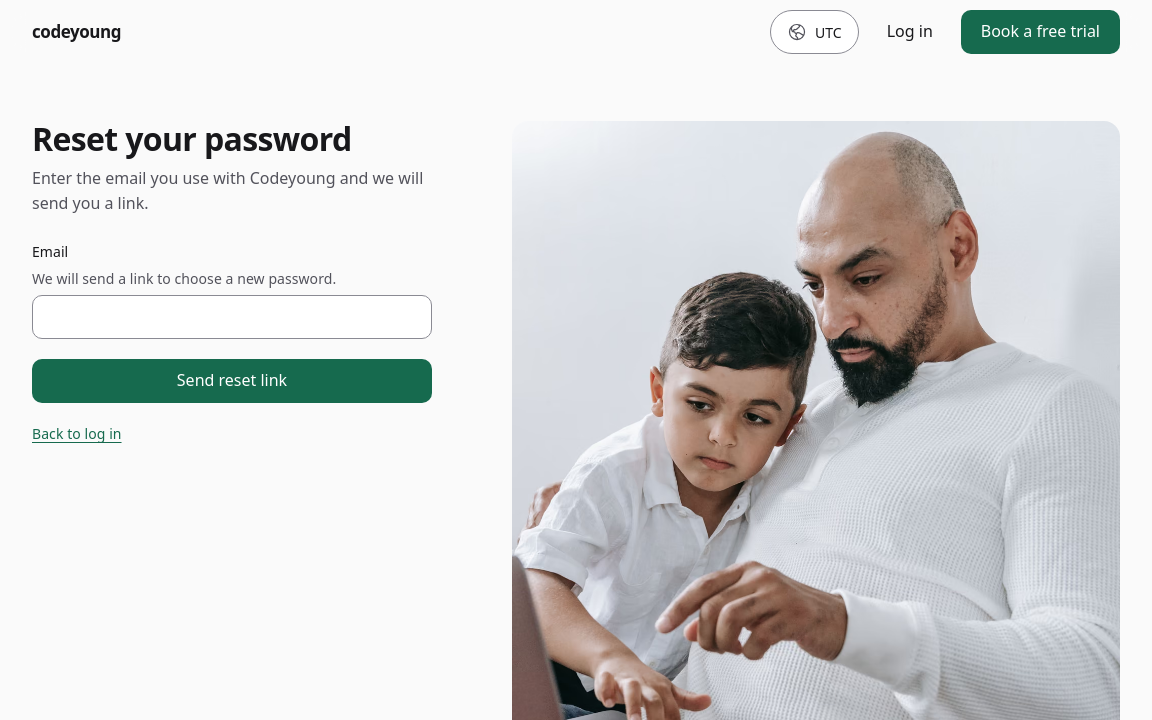
Test: forgot password › gives the same answer whether or not the account exists
The image size is (1152, 720).
Expected: the heading "Reset your password" is shown, [32, 117, 352, 160]
Type "nobody@example.com" into the field labelled "Email" at (232, 317), box [32, 295, 432, 339]
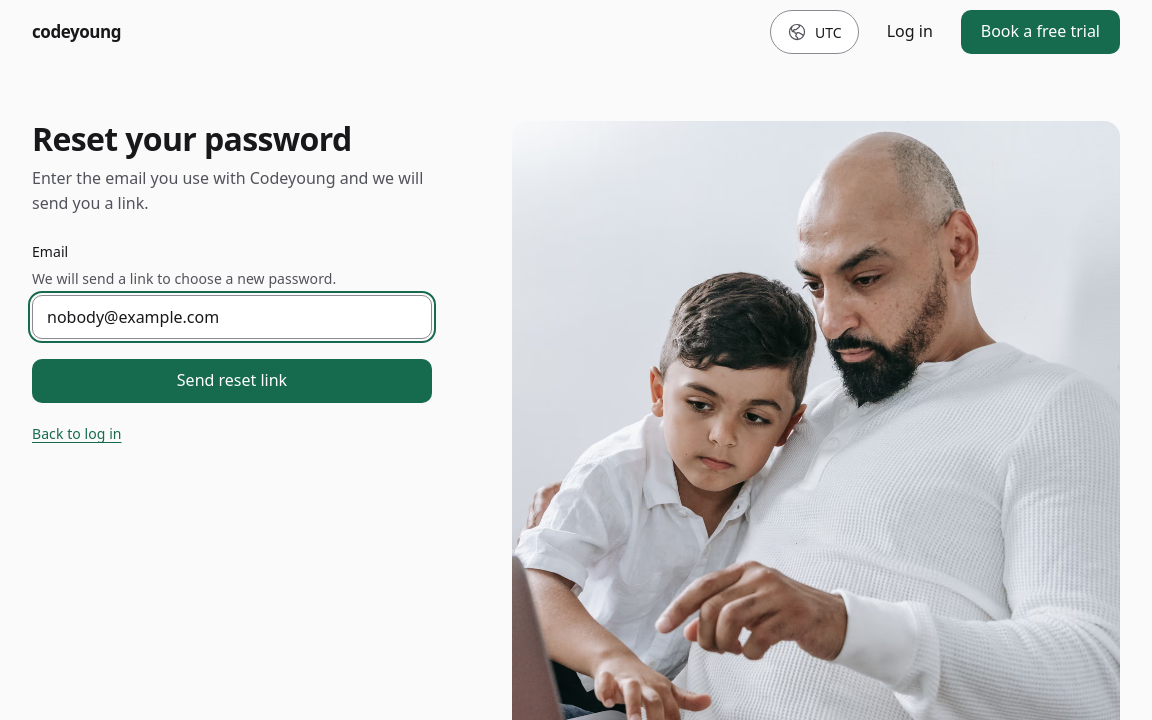
Click the button "Send reset link" at (232, 381), box [32, 359, 432, 403]
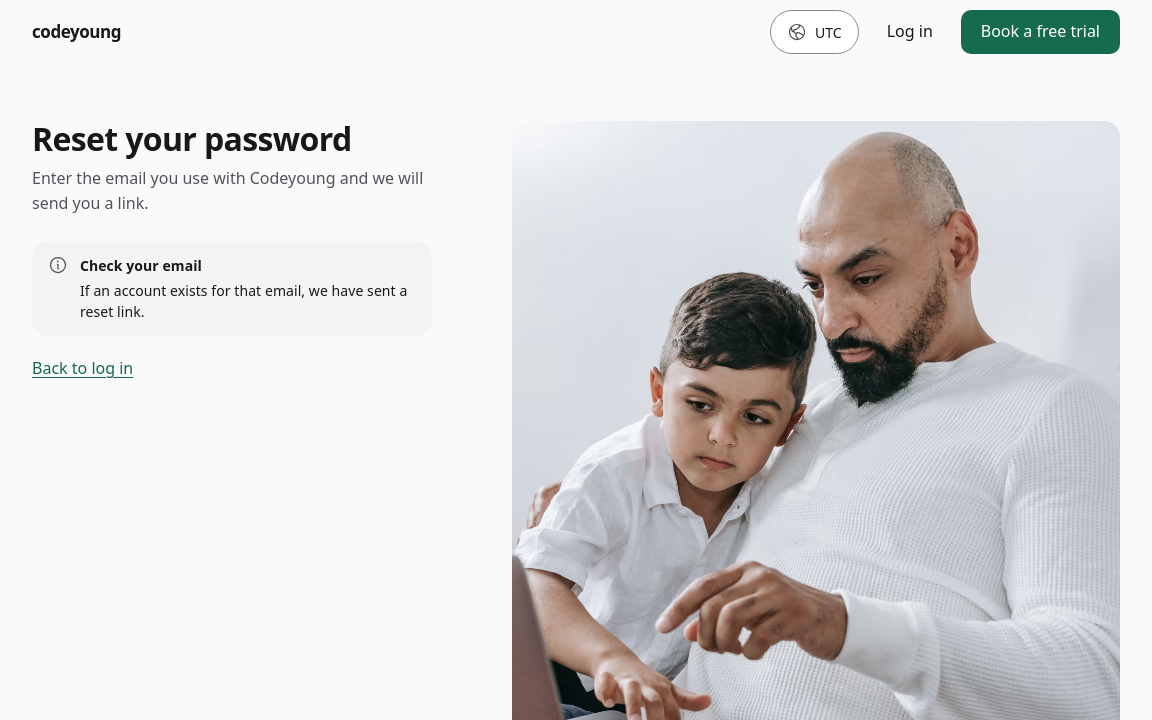
Now the text "If an account exists for that email, we have sent a reset link." is shown, box [80, 280, 416, 322]
